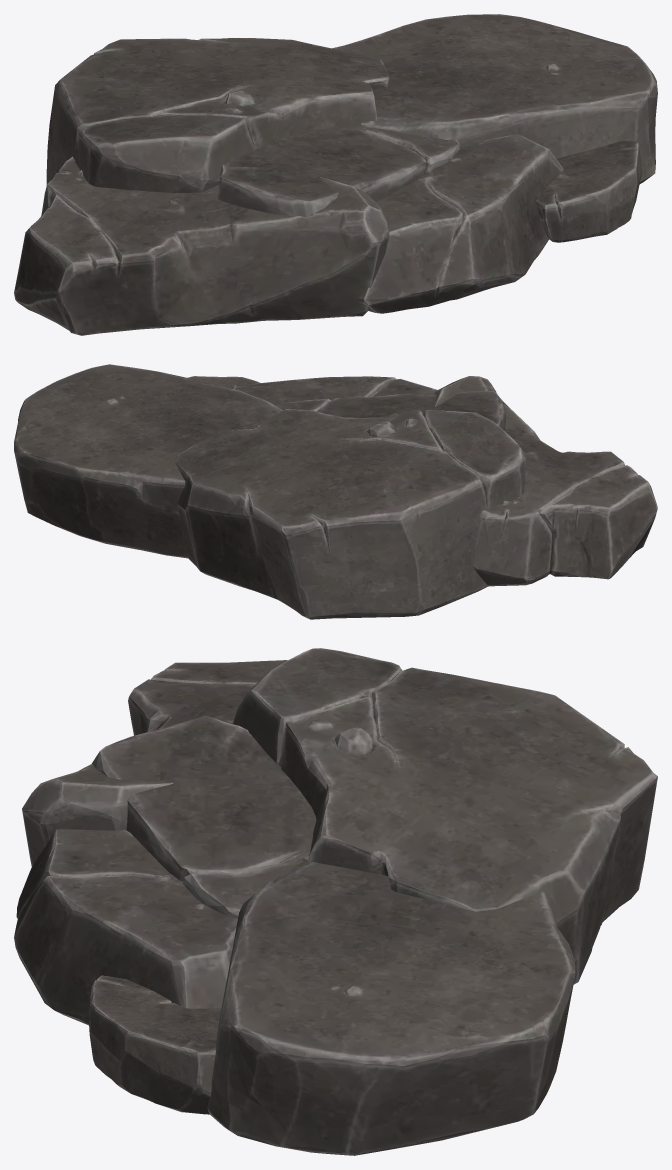
The picture shows the model from 3 angles, top to bottom: view 1: azimuth 30°, elevation 25°; view 2: azimuth 150°, elevation 25°; view 3: azimuth 270°, elevation 25°; orthographic projection. The views are drawn at different scales.
Parts seen in each view (by area): view 1: SM_Mining_Node_Medium_Coal_01_LOD0; view 2: SM_Mining_Node_Medium_Coal_01_LOD0; view 3: SM_Mining_Node_Medium_Coal_01_LOD0.
Part boxes in pixels (x1=…): SM_Mining_Node_Medium_Coal_01_LOD0: x1=14, y1=14, x2=657, y2=335; SM_Mining_Node_Medium_Coal_01_LOD0: x1=14, y1=364, x2=657, y2=619; SM_Mining_Node_Medium_Coal_01_LOD0: x1=14, y1=648, x2=657, y2=1155.
Size of the model in its own units: 4.32 by 0.9175 by 2.9.
